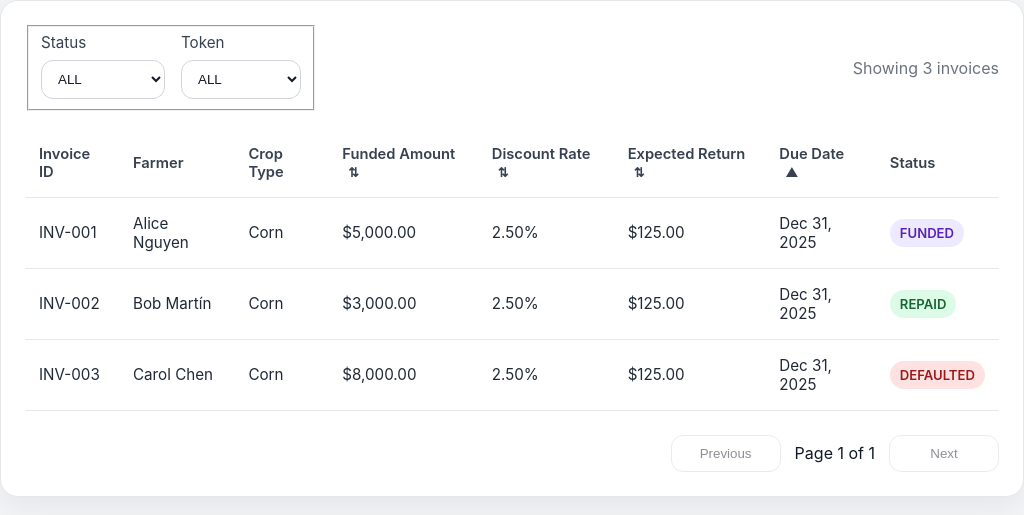
Test: filter controls › summary live region updates when filter changes
Select "FUNDED" in the dropdown named "filter by invoice status" at (103, 79), box left=41, top=60, right=165, bottom=99
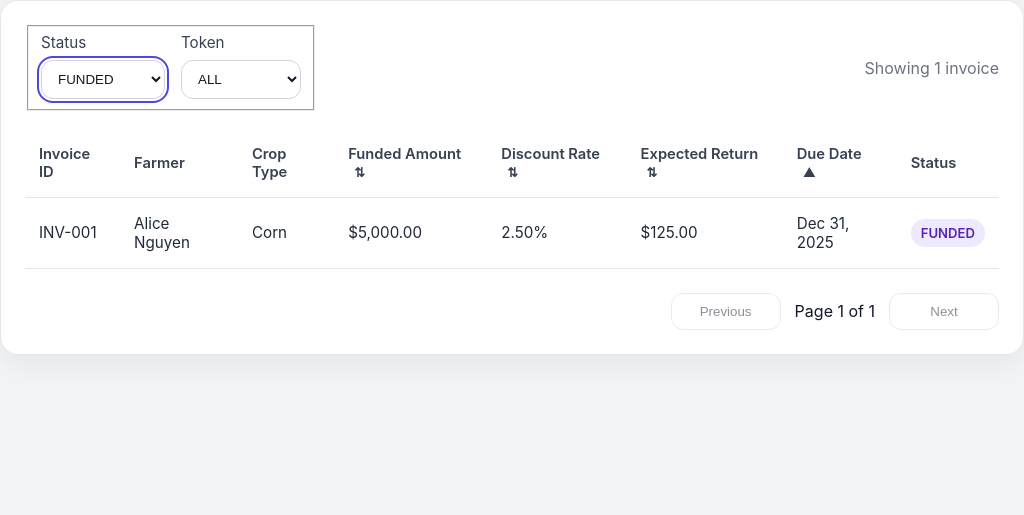
Expected: the message with test id "invoice-summary" shows "1 invoice", left=864, top=58, right=999, bottom=78
